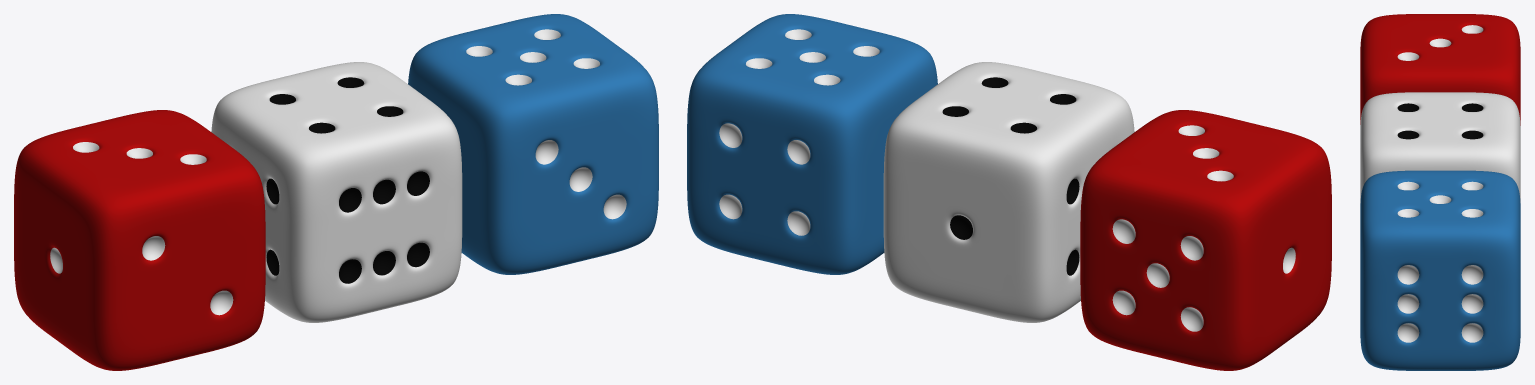
The model's file is uploads_files_3142007_Dice.fbx.
3 renders of one model, left to right at view 1: azimuth 30°, elevation 25°; view 2: azimuth 150°, elevation 25°; view 3: azimuth 270°, elevation 25°, orthographic. The views are drawn at different scales.
Visible parts, largest first — view 1: Cube.001, Cube, Cube.002; view 2: Cube.001, Cube, Cube.002; view 3: Cube.002, Cube.001, Cube.
Boxes of the visible parts, x1,y1,x2,y2 form: Cube.001: (14,110,265,370); Cube: (211,62,462,322); Cube.002: (408,14,658,274); Cube.001: (1080,110,1331,370); Cube: (883,62,1134,322); Cube.002: (687,14,937,274); Cube.002: (1360,170,1520,370); Cube.001: (1360,14,1520,125); Cube: (1360,92,1520,202).
Size of what is drawn, in the model's own units: 662 by 200 by 200.
